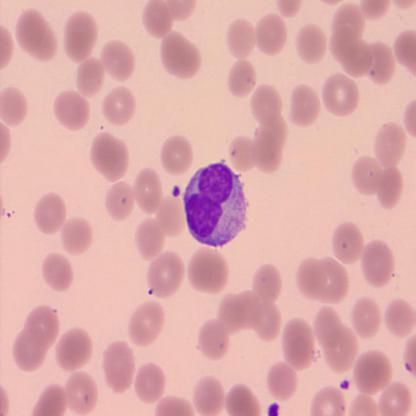Monocyte: (182, 158, 248, 249)
